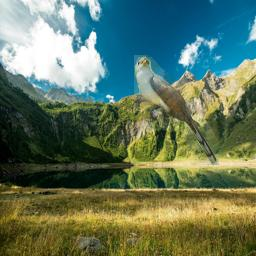Cuckoo: (134, 55, 219, 165)
